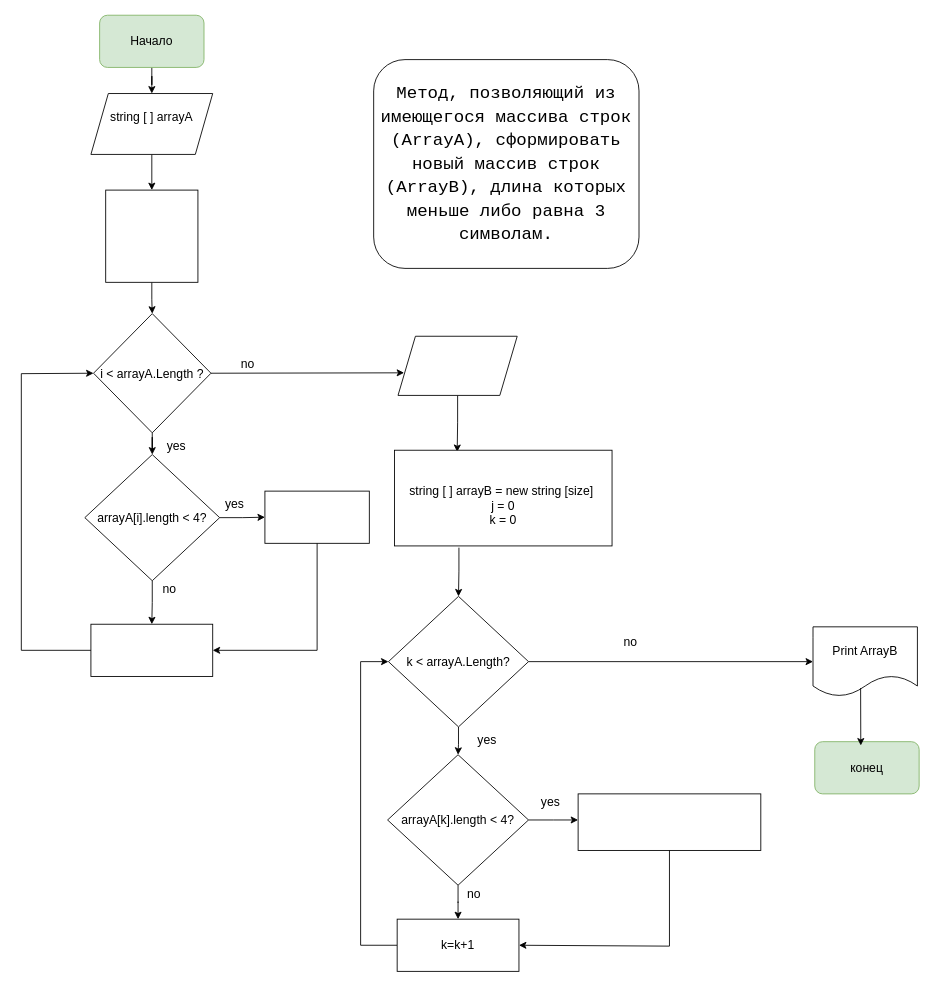
The diagram is 934 pixels wide and 987 high, and some of its shapes have lost their labels. Each missing label, with the box of its shape:
i = 0 size = 0: (105, 189, 198, 282)
i = i+1: (90, 623, 213, 676)
size = size+1: (264, 490, 369, 543)
string [ ] аrrayA size: (397, 335, 517, 395)
аrrayB[j]. = аrrayA[k]. j = j+1: (577, 793, 761, 850)
